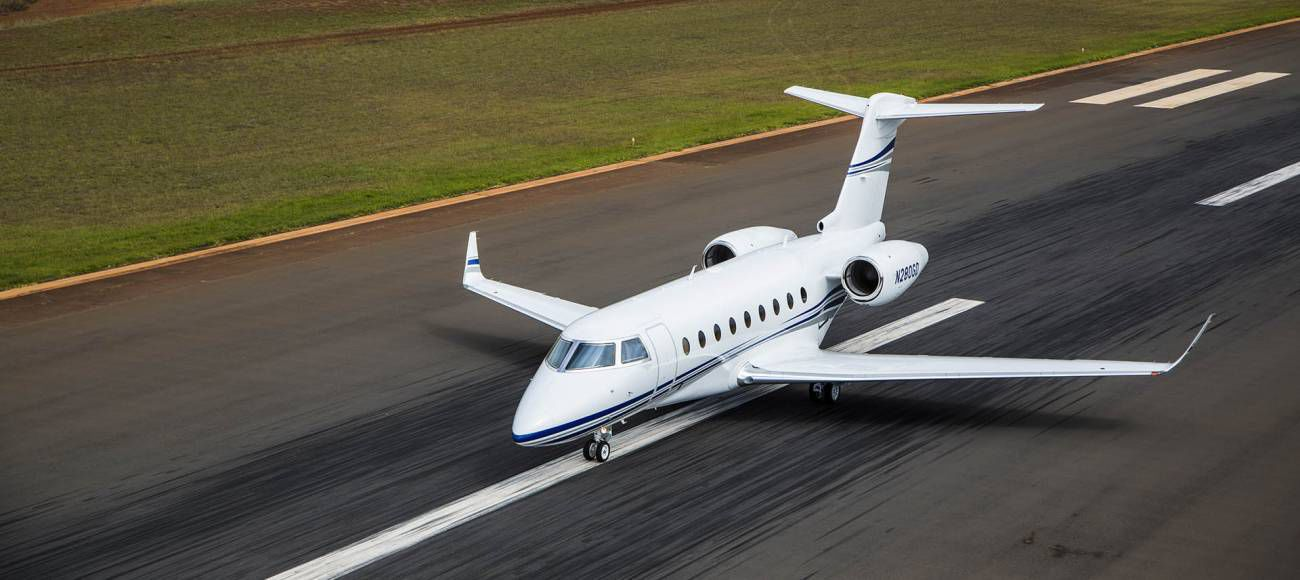Aeronef_commercial: (423, 89, 1236, 476)
